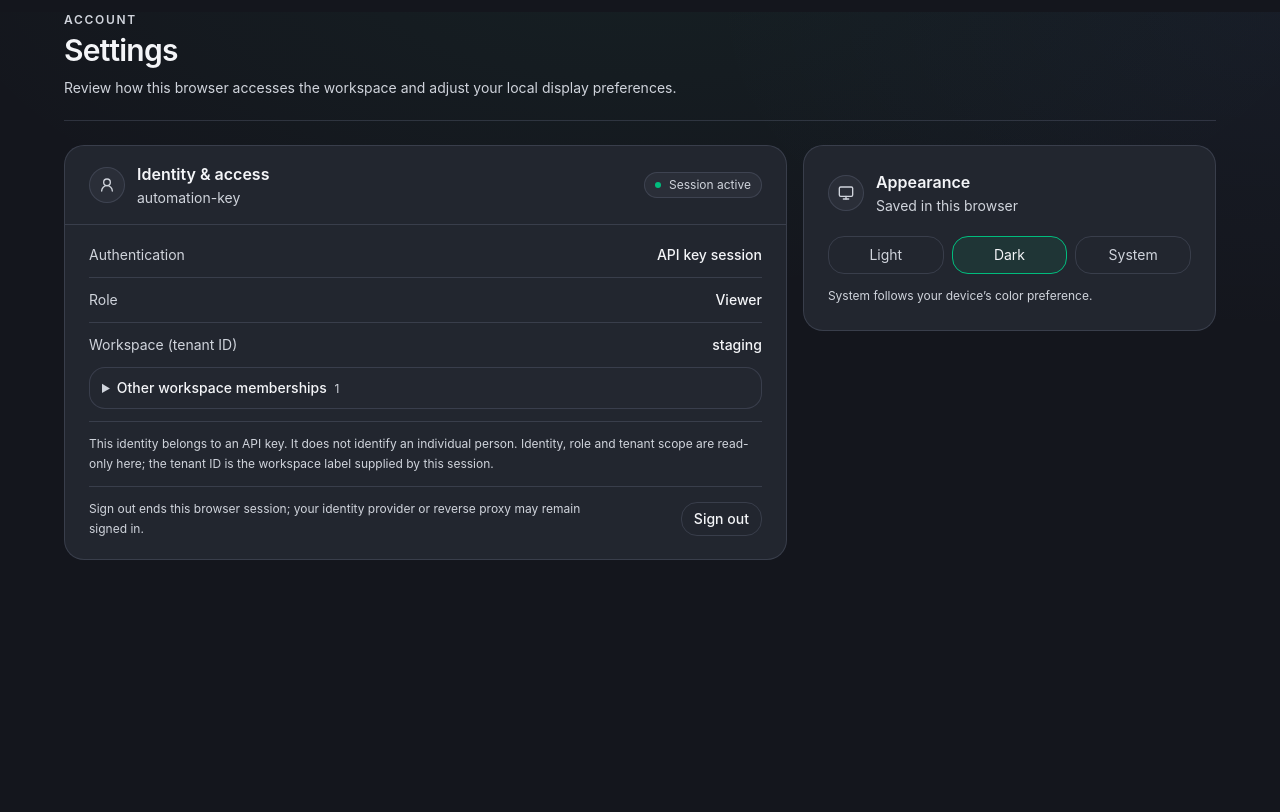
Scenario: gives a viewer truthful identity and appearance without admin links or unsupported scope switching
Expected: the text "automation-key" is shown, x1=137 y1=189 x2=240 y2=206
Expected: the text "staging" is shown, x1=712 y1=335 x2=762 y2=355
Click the heading "Other workspace memberships 1" at point(228, 388), box x1=117 y1=379 x2=339 y2=396
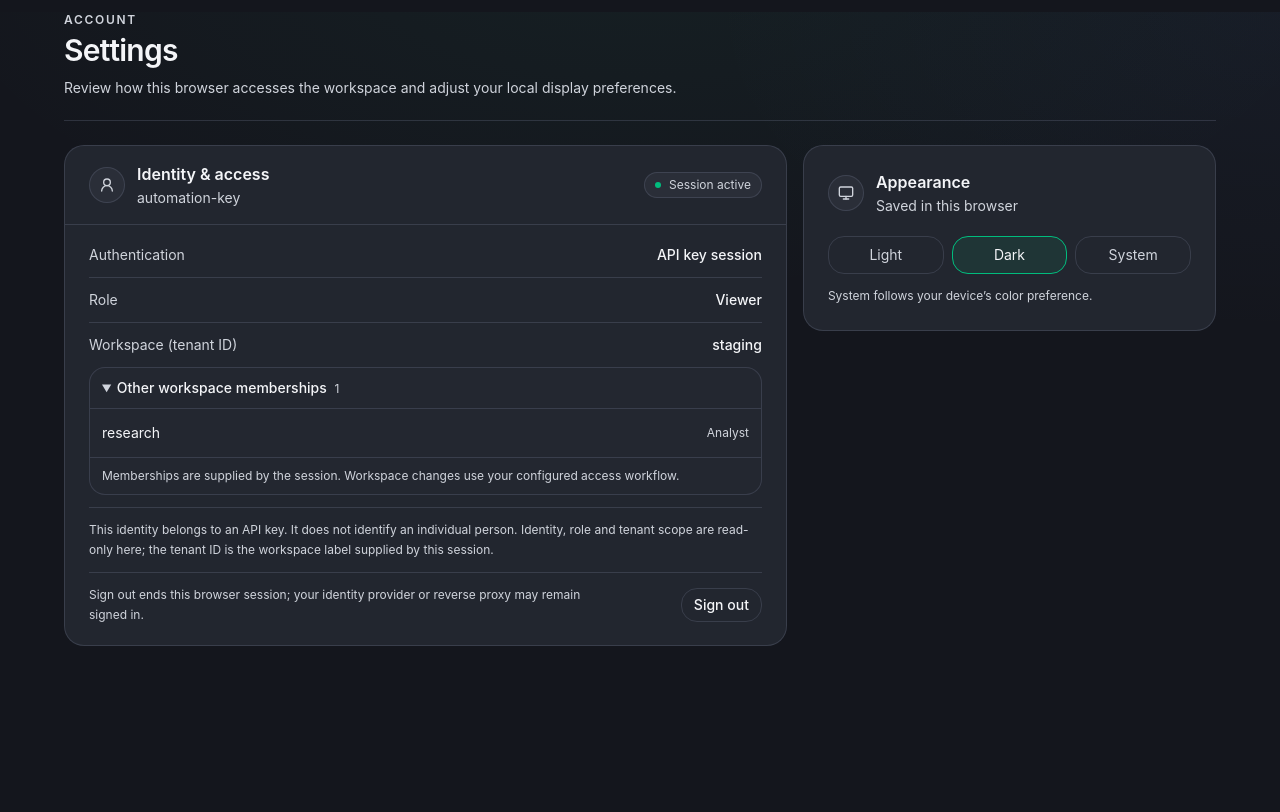
Expected: the text "Workspace (tenant ID)" is shown, x1=89 y1=335 x2=237 y2=355
Result: the text "research" is shown at x1=102 y1=423 x2=160 y2=443
